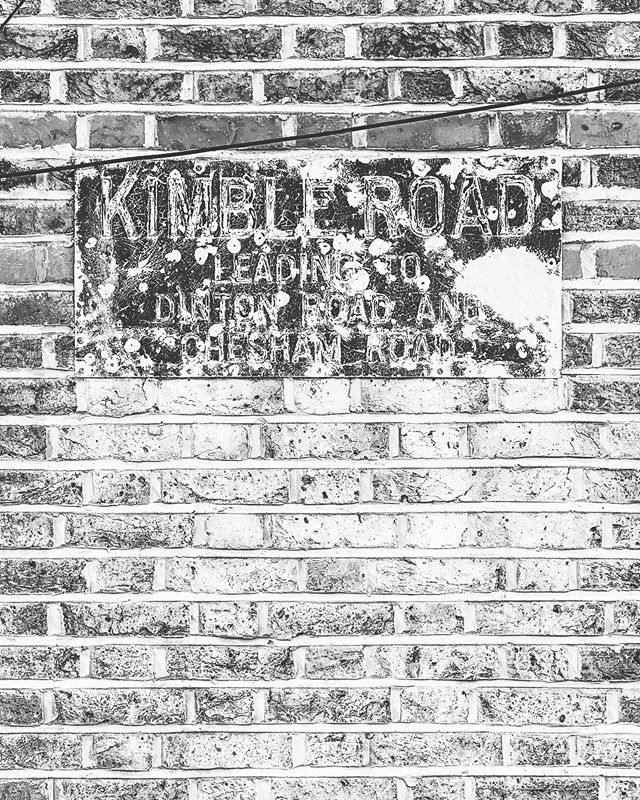sign: (77, 144, 569, 389)
wall: (2, 1, 636, 793)
